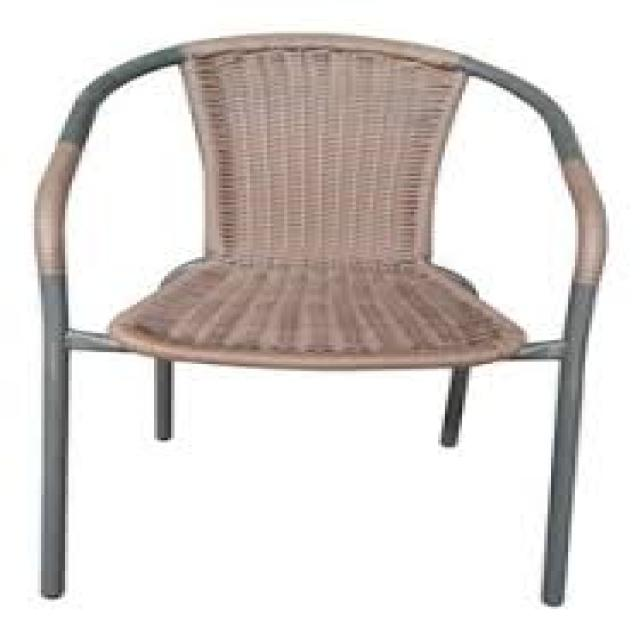bottle: (32, 28, 610, 612)
